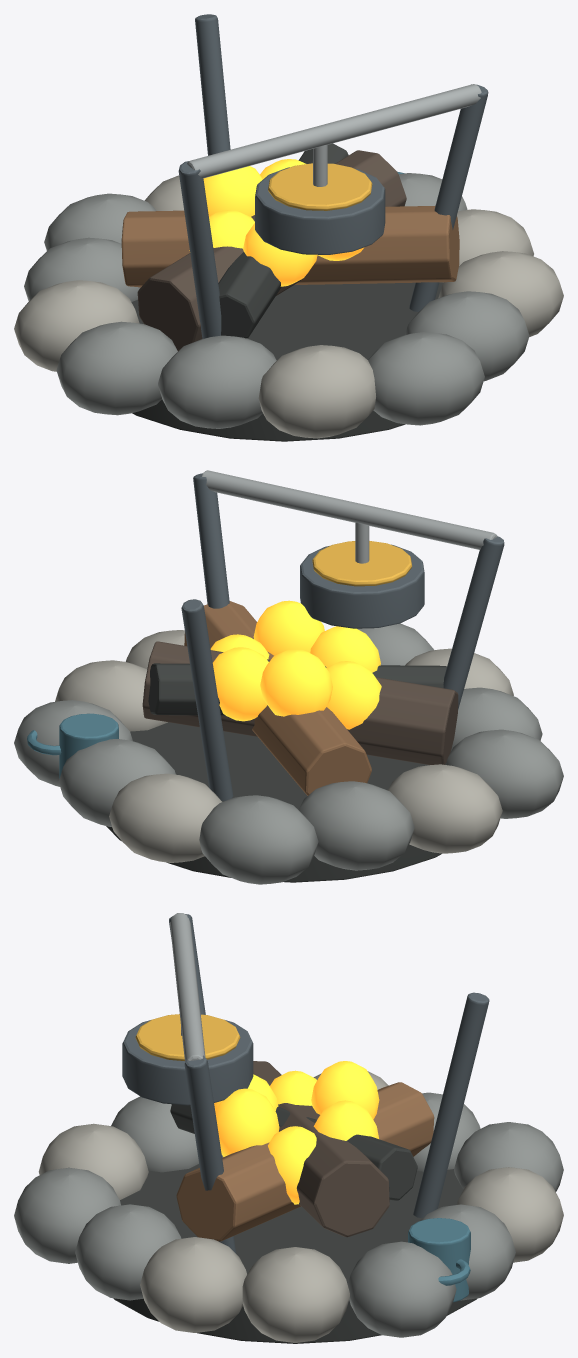
File: 09_Survivor_Campfire.fbx
The picture shows the model from 3 angles, top to bottom: view 1: azimuth 30°, elevation 25°; view 2: azimuth 150°, elevation 25°; view 3: azimuth 270°, elevation 25°; orthographic projection. The views are drawn at different scales.
Visible parts, largest first — view 1: 09_Survivor_Campfire; view 2: 09_Survivor_Campfire; view 3: 09_Survivor_Campfire.
Boxes of the visible parts, <box> form: 09_Survivor_Campfire: <box>14,14,563,441</box>; 09_Survivor_Campfire: <box>14,470,563,884</box>; 09_Survivor_Campfire: <box>14,913,563,1343</box>.
Bounding box in the file's own units: 2.17 × 1.14 × 2.1.
